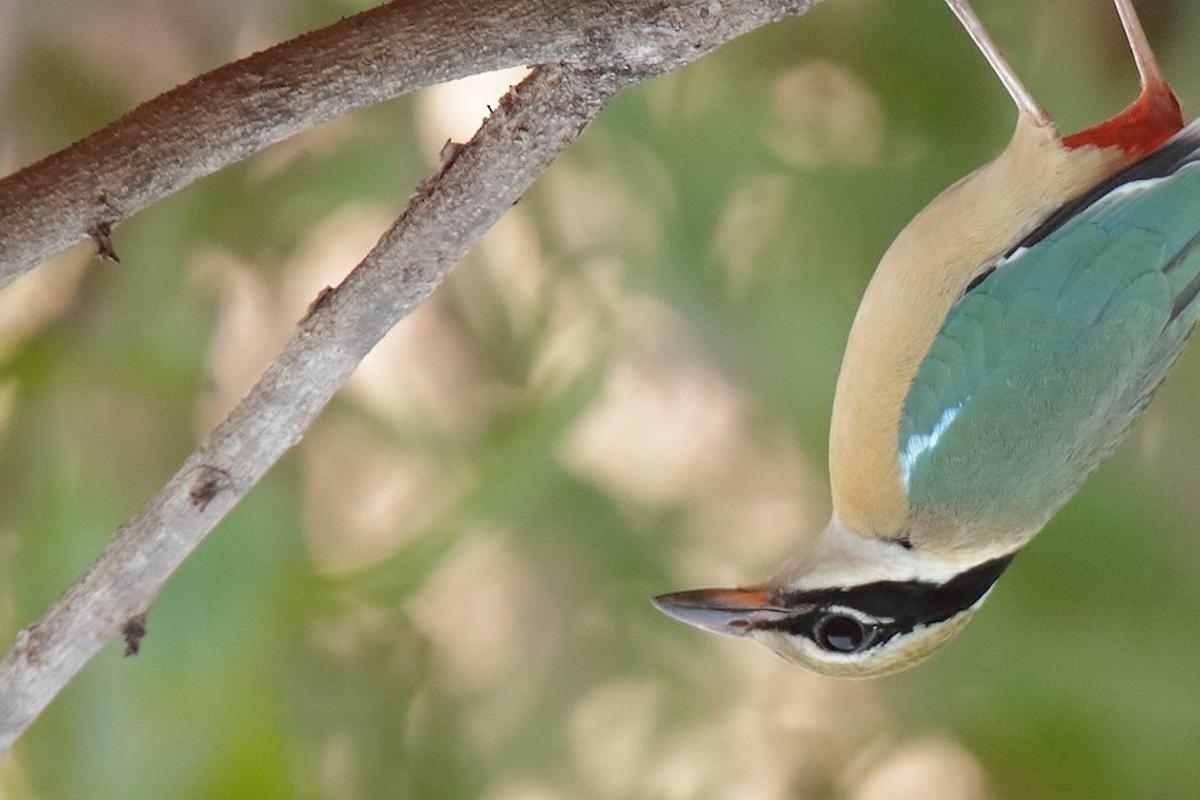pitta: (643, 76, 1200, 711)
